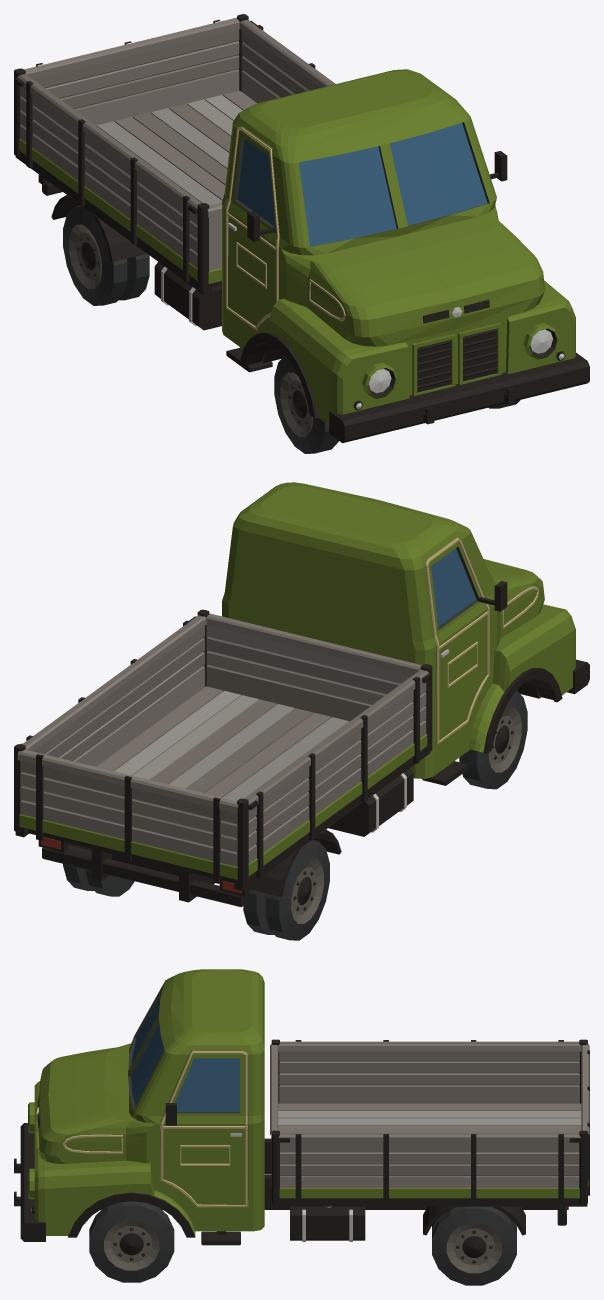
File: railway-cartage-lorry-c51950.glb
3 renders of one model, top to bottom at view 1: azimuth 30°, elevation 25°; view 2: azimuth 150°, elevation 25°; view 3: azimuth 270°, elevation 25°, orthographic. The views are drawn at different scales.
Visible parts, largest first — view 1: lorry-body, door-mesh-r, wheel-mesh-rear, wheel-mesh-front; view 2: lorry-body, door-mesh-r, wheel-mesh-rear (×2), wheel-mesh-front; view 3: lorry-body, door-mesh-l, wheel-mesh-front, wheel-mesh-rear.
Boxes of the visible parts, x1,y1,x2,y2 form: lorry-body: (14,14,589,443); door-mesh-r: (225,126,279,330); wheel-mesh-rear: (63,205,149,305); wheel-mesh-front: (274,355,338,453); lorry-body: (14,482,589,907); door-mesh-r: (425,536,507,744); wheel-mesh-rear (×2): (63,840,329,940); wheel-mesh-front: (459,690,527,789); lorry-body: (14,969,589,1245); door-mesh-l: (160,1050,248,1207); wheel-mesh-front: (89,1201,174,1282); wheel-mesh-rear: (432,1206,516,1285).
Size of the model in its own units: 2.6 by 2.81 by 6.12.
